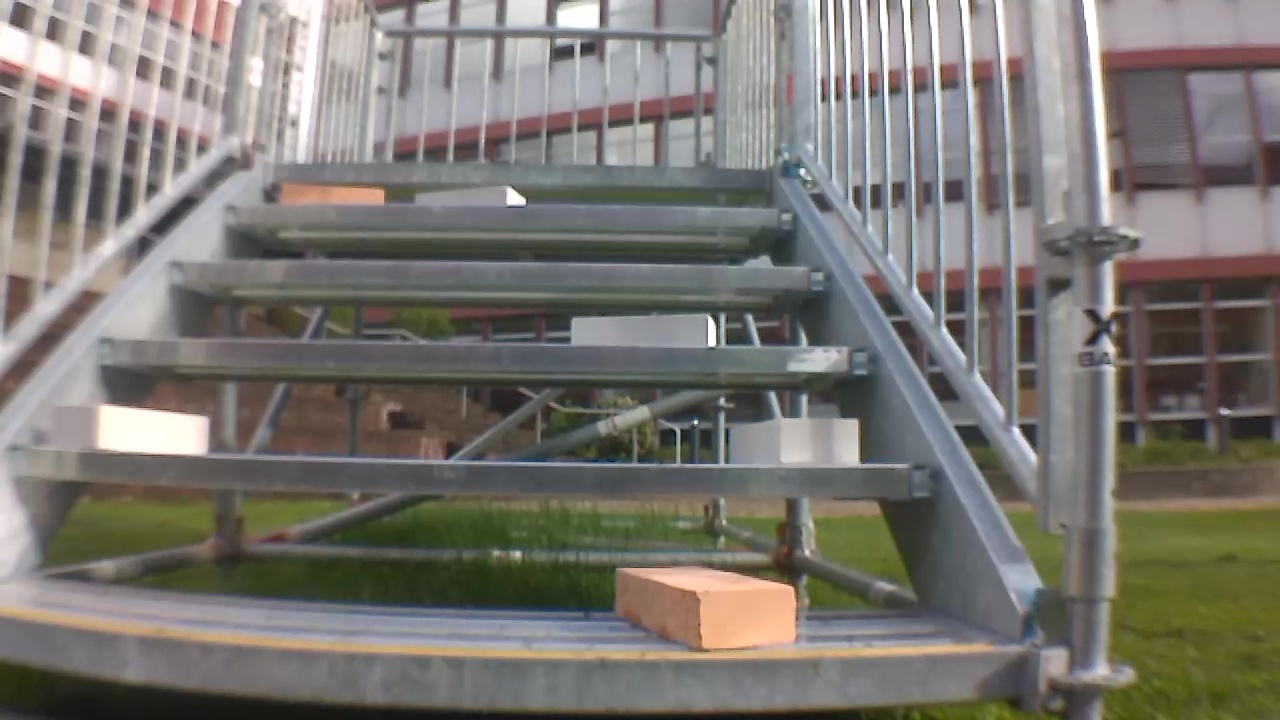brick: (614, 565, 792, 649), (51, 405, 208, 454), (731, 421, 858, 466), (571, 314, 715, 346), (278, 183, 384, 205), (417, 186, 525, 206)
edge: (3, 614, 1032, 712), (9, 449, 938, 496), (98, 340, 871, 372), (165, 260, 829, 289), (226, 204, 798, 231), (264, 163, 771, 185)
stairs: (2, 2, 1136, 716)
steps: (5, 155, 1038, 716)
